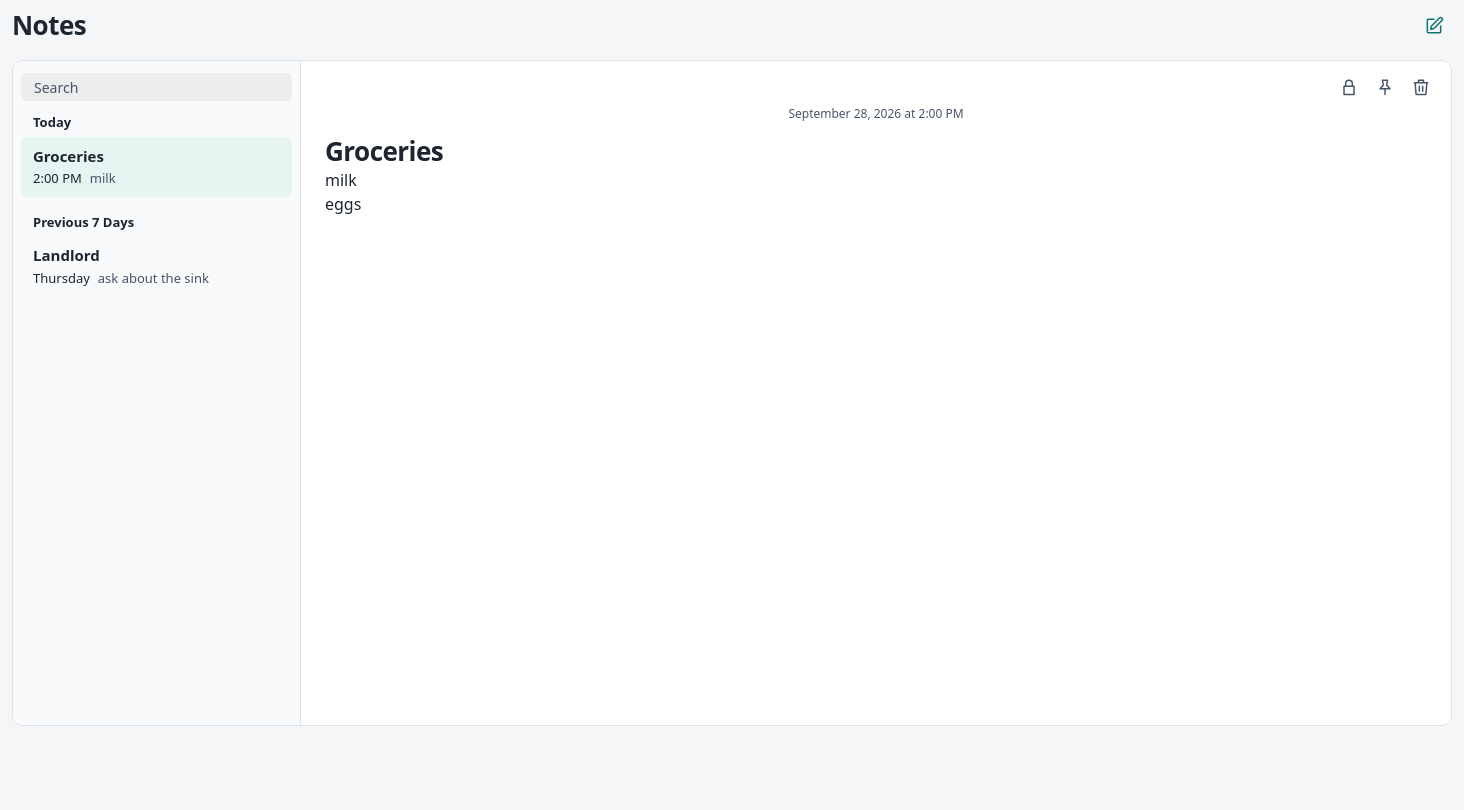
Test: AC-80.2 a new note left empty is not kept
The width and height of the screenshot is (1464, 810).
What coordinates should you click on to do the following:
click the button named "New note"
I would click on:
 (1434, 26)
Its box is [1416,8,1452,44].
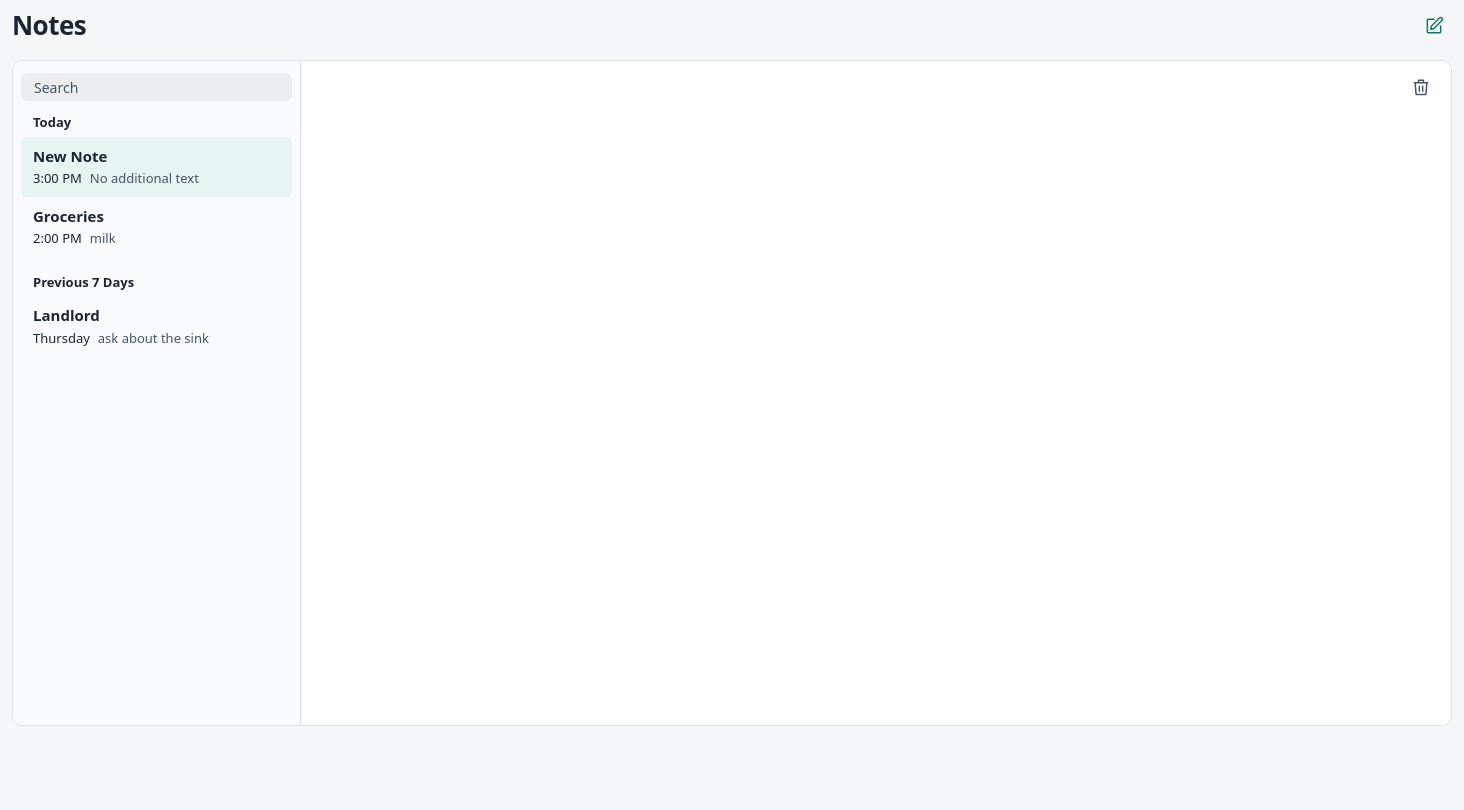
What coordinates should you click on to do the following:
click the button "Landlord Thursday ask about the sink"
I would click on:
 (156, 326)
Its box is [21,296,292,356].
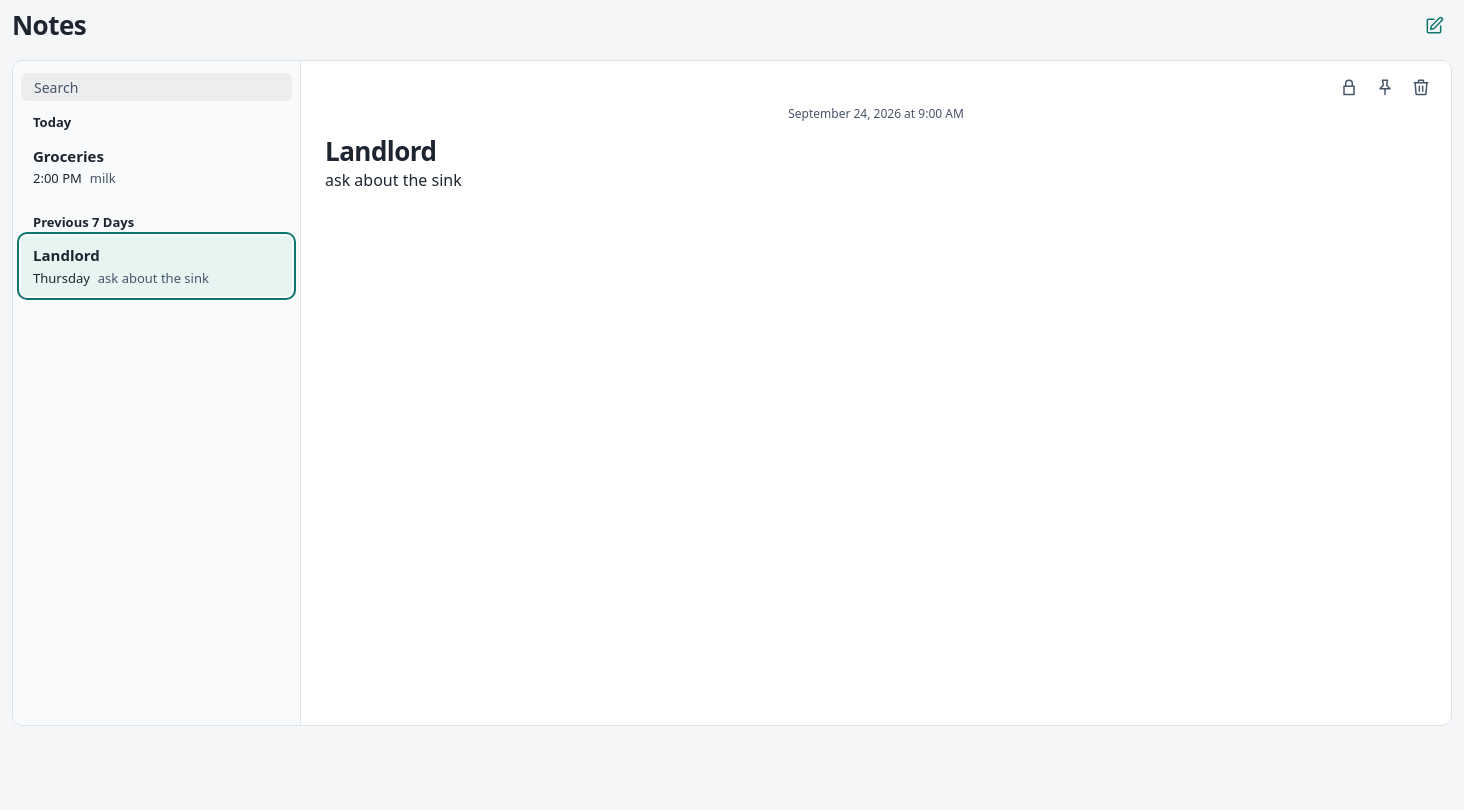
Expected: the button "New Note" is gone
